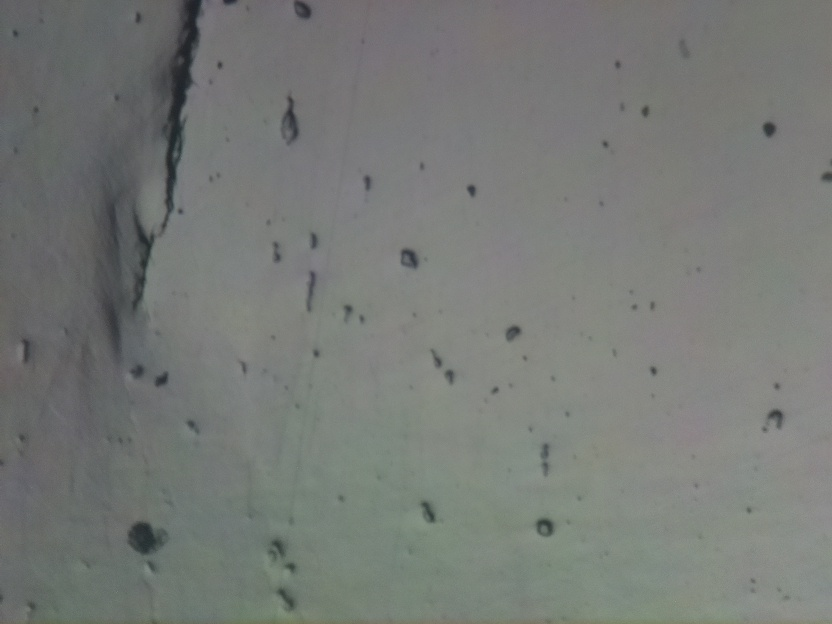crack: (130, 0, 203, 301)
